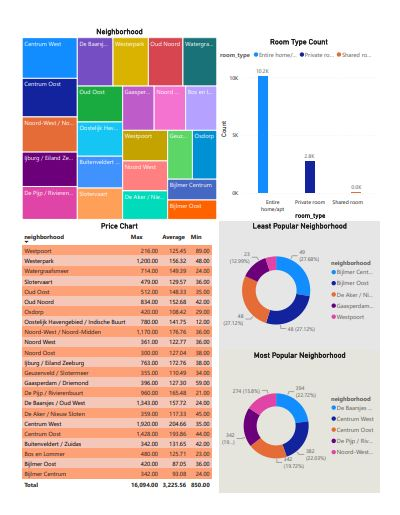

What the dashboard file says about the page in this screenshot:
{"tool":"powerbi","page":{"name":"Neighborhood","canvas":[816,1056],"ordinal":0},"visuals":[{"type":"donutChart","title":"Least Popular Neighborhood","fields":{"Y":["Sum(Least Popular.Count)"],"Category":["Least Popular.neighborhood"]},"box":[450.8,440.2,366.1,294.2],"z":0},{"type":"donutChart","title":"Most Popular Neighborhood","fields":{"Y":["Sum(Most Popular.Count)"],"Category":["Most Popular.neighborhood"]},"box":[450.8,734.3,366.1,321.7],"z":1000},{"type":"pivotTable","title":"Price Chart","fields":{"Values":["Sum(Price Chart.Max)","Sum(Price Chart.Average)","Sum(Price Chart.Min)"],"Rows":["Price Chart.neighborhood"]},"box":[0,440.2,450.8,615.8],"z":2000},{"type":"clusteredColumnChart","title":"Room Type Count","fields":{"Y":["Sum(room count.Count)"],"Category":["room count.room_type"],"Series":["room count.room_type"]},"box":[449,23.2,366.8,417.3],"z":3000},{"type":"treemap","title":"Neighborhood","fields":{"Group":["Price Chart.neighborhood"],"Values":["Sum(Price Chart.Average)"]},"box":[0,0,451.1,440.5],"z":4000}]}

Visuals, with their boxes in screenshot pixels (x1, y1, x2, y2), scaled from the page's 816x1056 canvas onto the 400x515 screenshot:
"Least Popular Neighborhood" donutChart: (left=221, top=215, right=399, bottom=358)
"Most Popular Neighborhood" donutChart: (left=221, top=358, right=399, bottom=514)
"Price Chart" pivotTable: (left=0, top=215, right=221, bottom=514)
"Room Type Count" clusteredColumnChart: (left=220, top=11, right=399, bottom=215)
"Neighborhood" treemap: (left=0, top=0, right=221, bottom=215)
